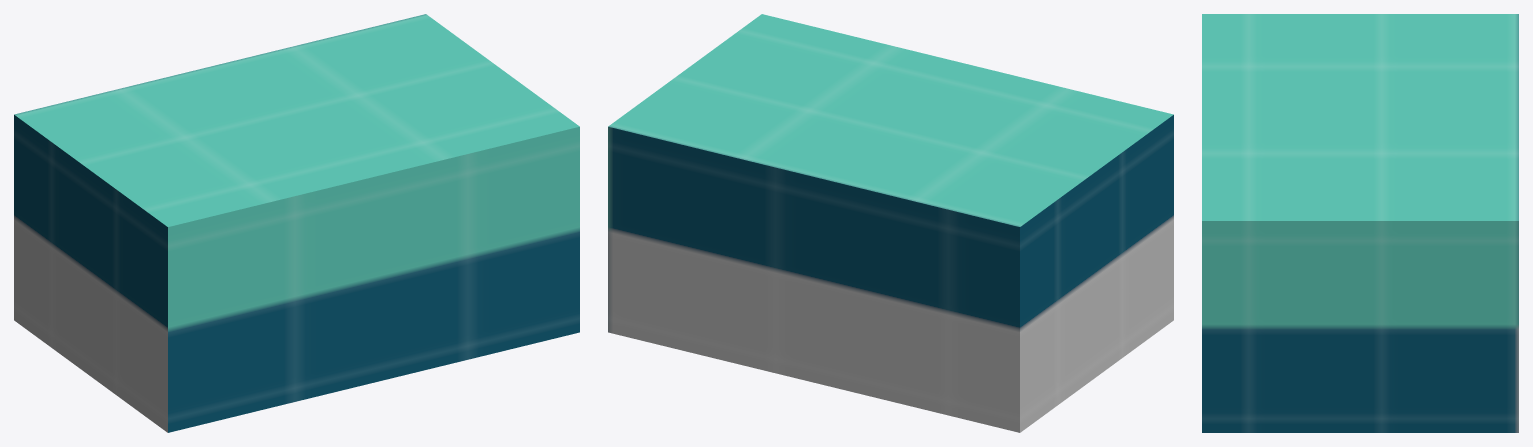
The model's file is mouse.glb.
3 renders of one model, left to right at view 1: azimuth 30°, elevation 25°; view 2: azimuth 150°, elevation 25°; view 3: azimuth 270°, elevation 25°, orthographic. The views are drawn at different scales.
Visible parts, largest first — view 1: col_mouse; view 2: col_mouse; view 3: col_mouse.
Part boxes in pixels (x1,y1,x2,y2): col_mouse: (14, 14, 579, 432); col_mouse: (608, 14, 1173, 432); col_mouse: (1202, 14, 1518, 432).
Bounding box in the file's own units: 0.1377 × 0.0657 × 0.0891.
Materials: 1 (1 with a texture image).
